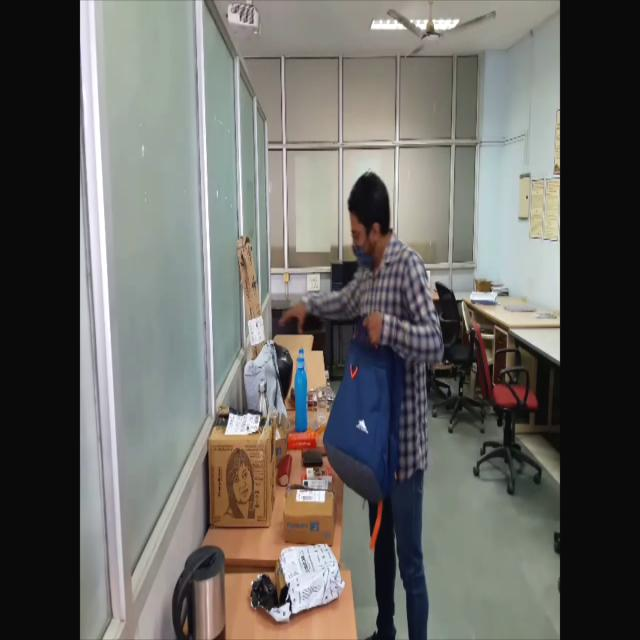shoplifting: (316, 164, 448, 640)
